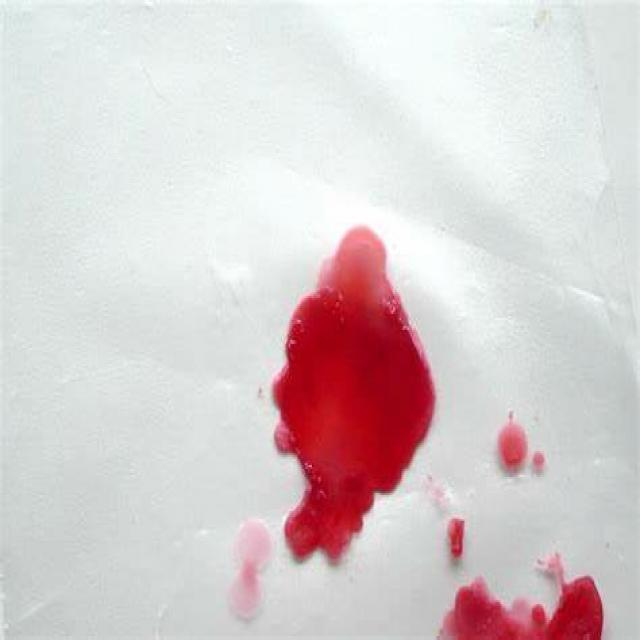wound: (232, 193, 470, 581), (426, 406, 622, 640)
